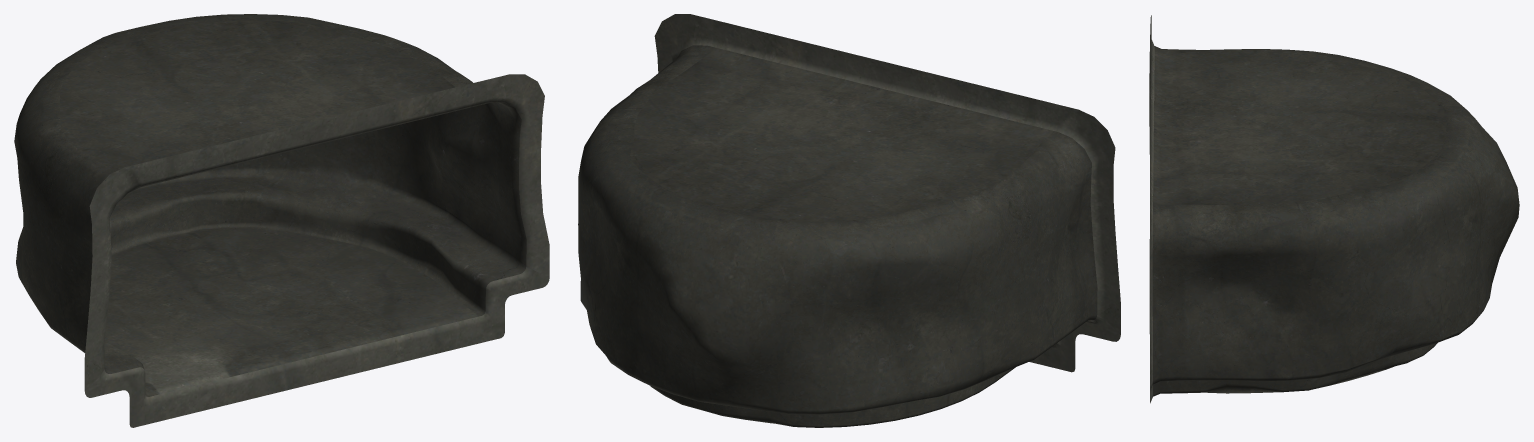
Rendered from cave_pilgrim_settlement_01_interior.dae.
The picture shows the model from 3 angles, left to right: view 1: azimuth 30°, elevation 25°; view 2: azimuth 150°, elevation 25°; view 3: azimuth 270°, elevation 25°; orthographic projection. The views are drawn at different scales.
Visible parts, largest first — view 1: interior_01; view 2: interior_01; view 3: interior_01.
Boxes of the visible parts, x1=… form: interior_01: x1=14, y1=14, x2=549, y2=427; interior_01: x1=578, y1=14, x2=1120, y2=427; interior_01: x1=1149, y1=15, x2=1519, y2=403.
Size of the model in its own units: 10.85 by 5.84 by 8.12.
